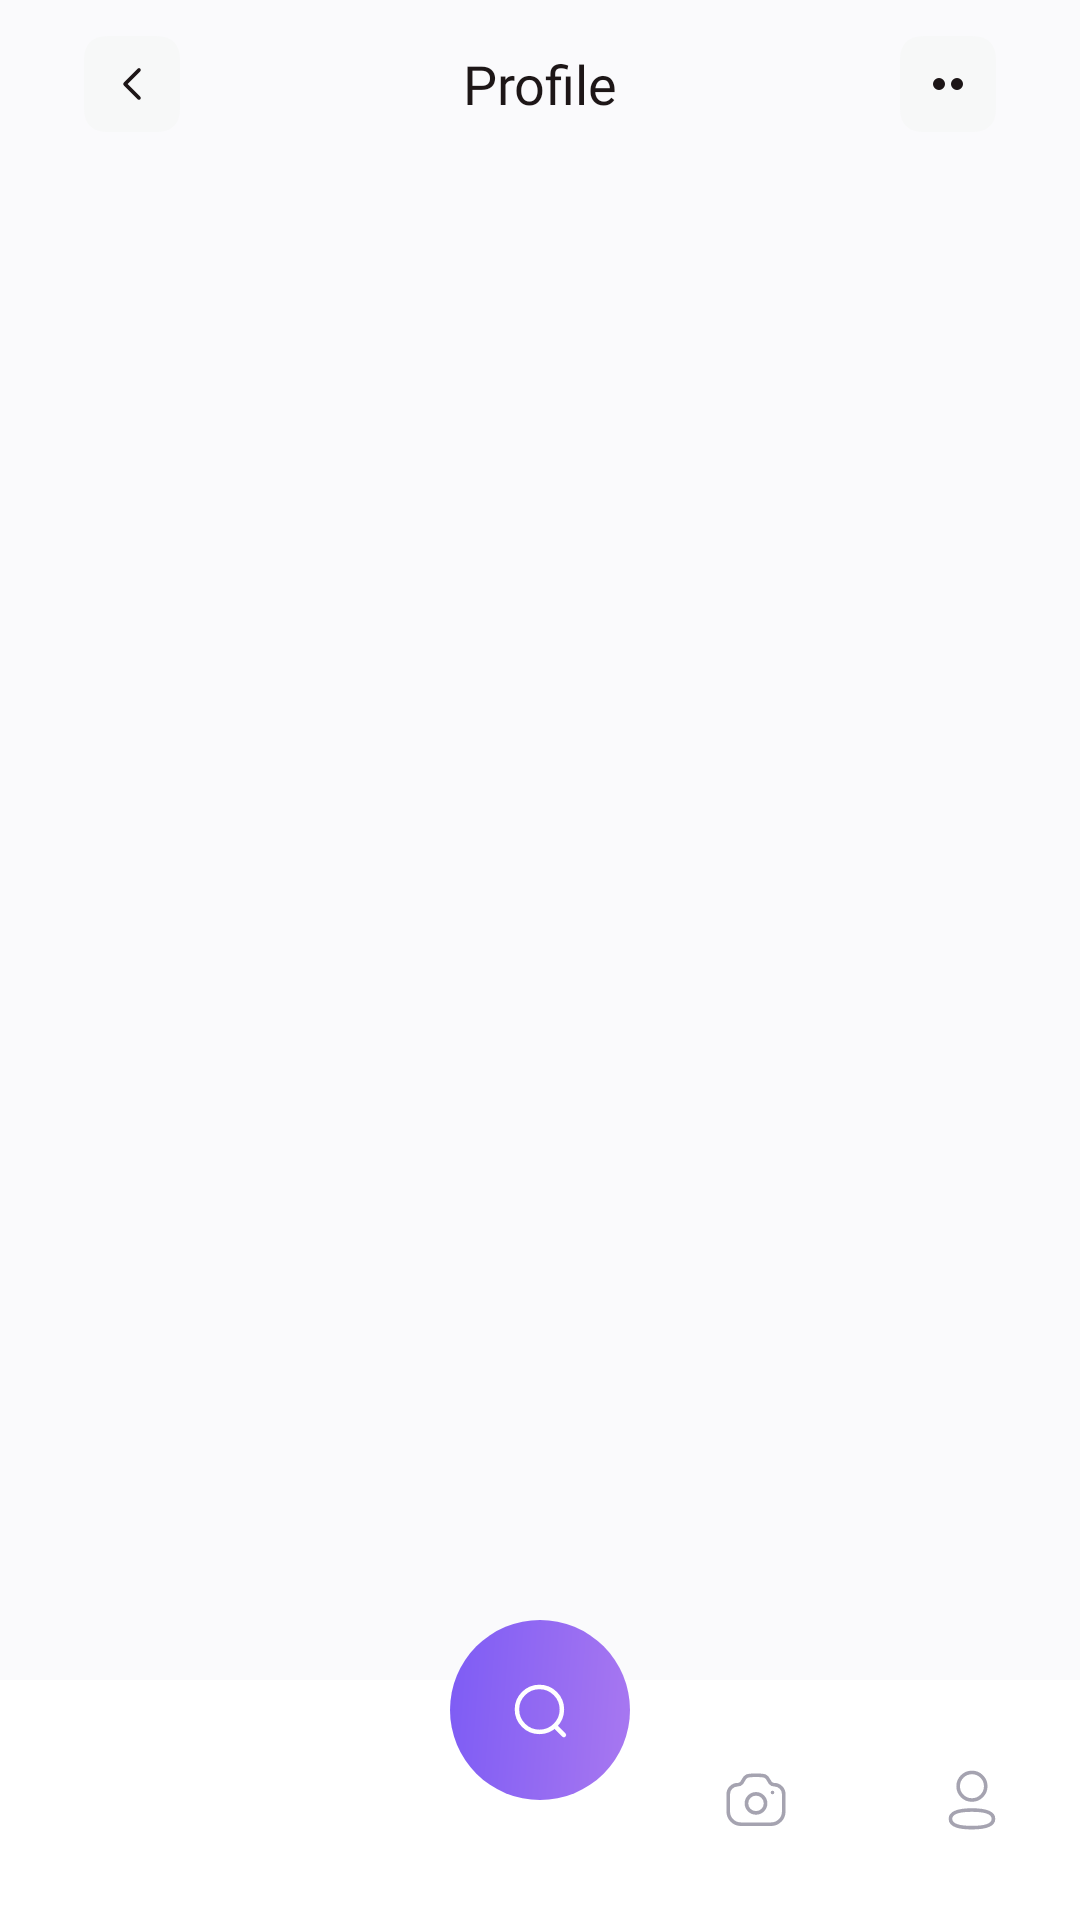

Screen size 1080px x 1920px. Icon name, then its box in pixels as (x1, y1, x2, y2):
Account menu: (933, 78, 963, 90)
Back: (123, 68, 141, 100)
Camera: (726, 1773, 786, 1826)
Profile: (949, 1771, 995, 1830)
Search: (450, 1620, 630, 1800)
